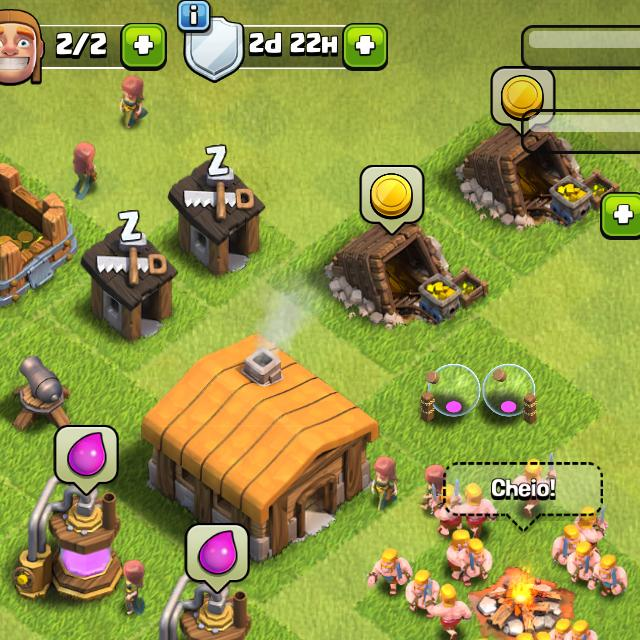Elixir: (54, 423, 119, 497), (186, 523, 253, 593)
coin: (360, 166, 421, 235), (494, 67, 553, 122)
